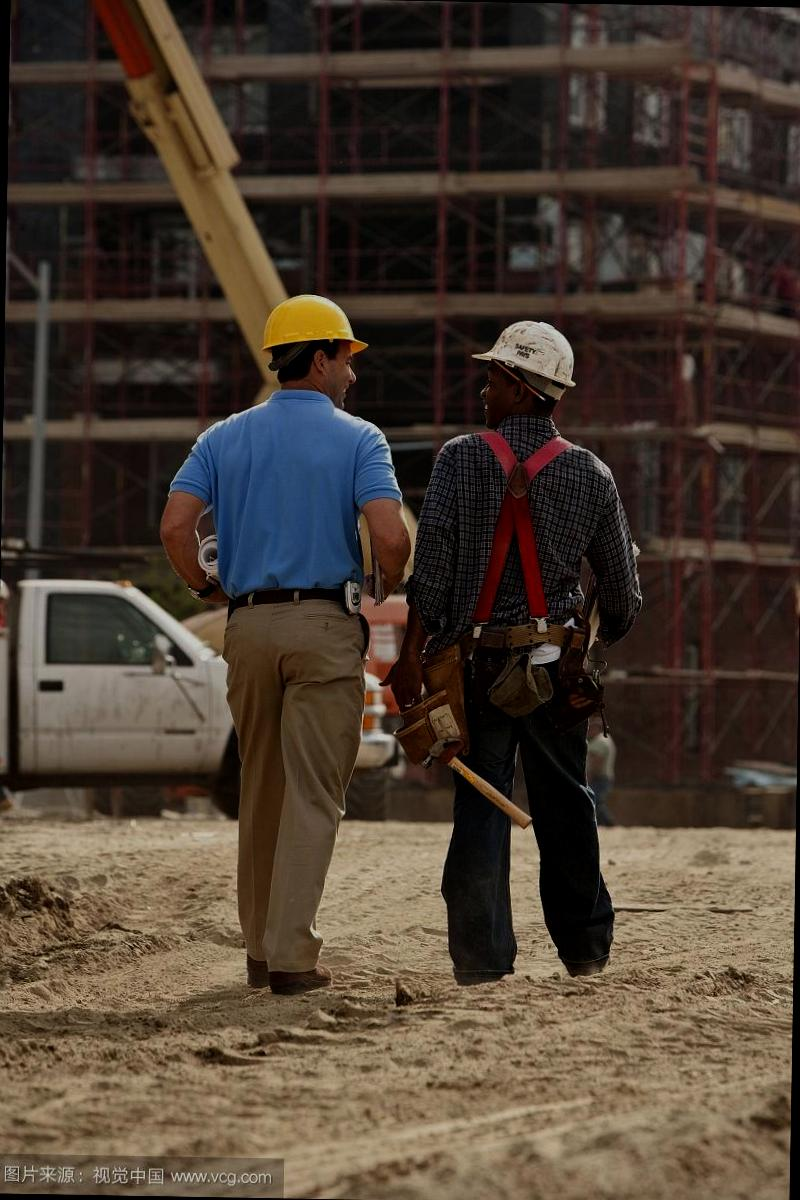helmet: (467, 309, 589, 392), (256, 284, 372, 360)
no_vest: (420, 423, 632, 686), (186, 384, 392, 620)
person: (157, 282, 412, 997), (416, 312, 645, 996)
